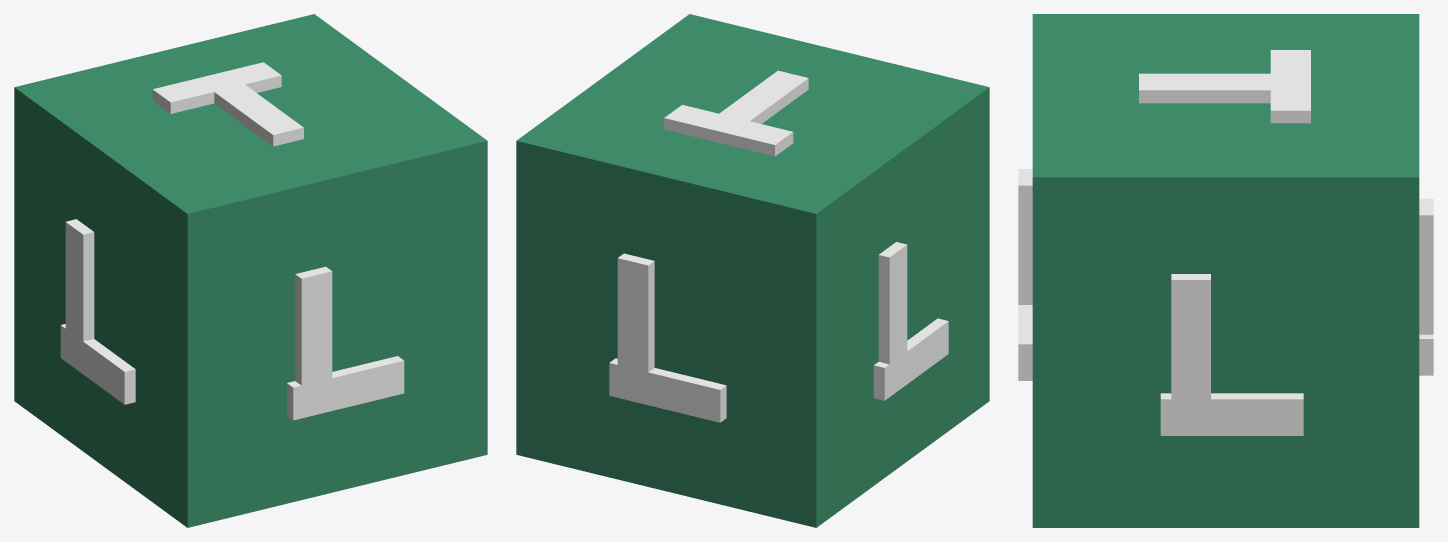
File: TARGET_6.glb
The picture shows the model from 3 angles, left to right: view 1: azimuth 30°, elevation 25°; view 2: azimuth 150°, elevation 25°; view 3: azimuth 270°, elevation 25°; orthographic projection. The views are drawn at different scales.
Visible parts, largest first — view 1: TARGET_HIGH_6; view 2: TARGET_HIGH_6; view 3: TARGET_HIGH_6.
Part boxes in pixels (bbox=[...]): TARGET_HIGH_6: bbox=[14, 14, 487, 527]; TARGET_HIGH_6: bbox=[516, 14, 989, 527]; TARGET_HIGH_6: bbox=[1018, 14, 1433, 527].
Size of the model in its own units: 2.15 by 2.15 by 2.15.
